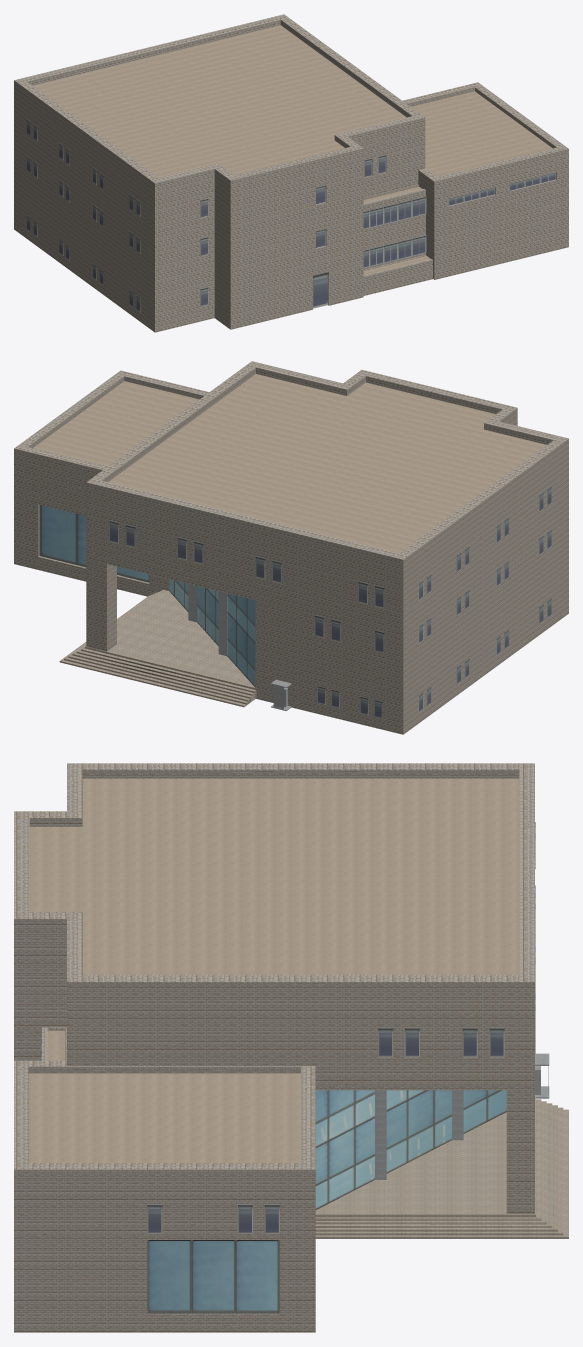
Rendered from cairo bank_fbx_final.fbx.
The picture shows the model from 3 angles, top to bottom: view 1: azimuth 30°, elevation 25°; view 2: azimuth 150°, elevation 25°; view 3: azimuth 270°, elevation 25°; orthographic projection. The views are drawn at different scales.
Parts seen in each view (by area): view 1: Box001, Group001; view 2: Box001, Group001; view 3: Box001, Group001.
Part boxes in pixels (bbox=[...]): Box001: bbox=[14, 14, 568, 332]; Group001: bbox=[26, 119, 555, 312]; Box001: bbox=[14, 361, 568, 734]; Group001: bbox=[39, 486, 551, 718]; Box001: bbox=[14, 763, 568, 1332]; Group001: bbox=[41, 822, 535, 1313].
Bounding box in the file's own units: 6079 × 2175 × 4420.
6 materials, 6 textured.
